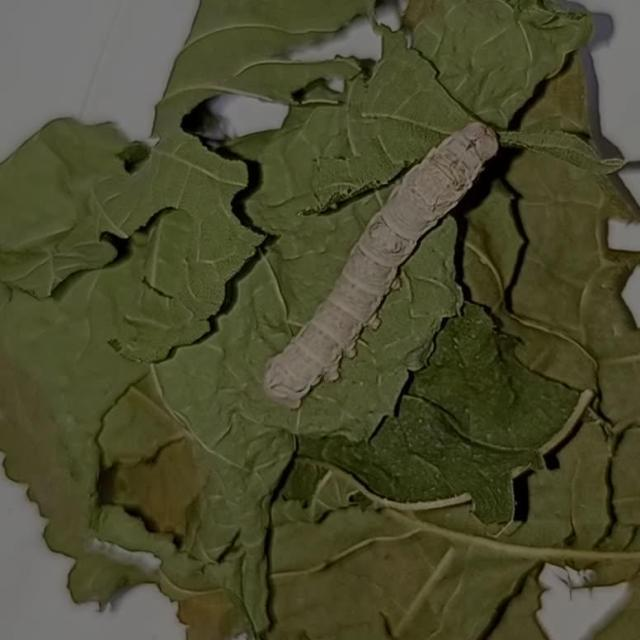Healthy: (256, 118, 514, 412)
